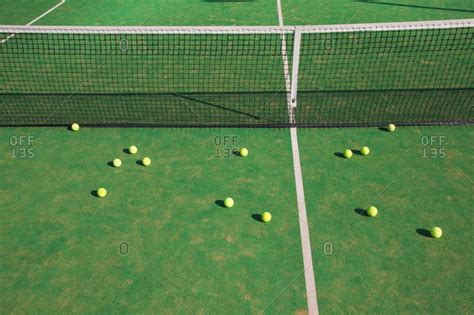tennis_ball: (430, 226, 443, 239), (366, 205, 378, 218), (224, 197, 234, 208), (262, 212, 272, 223), (97, 187, 107, 197), (343, 148, 352, 159), (128, 145, 137, 155), (239, 147, 248, 157), (361, 146, 370, 156), (142, 157, 151, 166), (113, 158, 122, 167), (71, 122, 79, 131), (387, 124, 395, 131)
